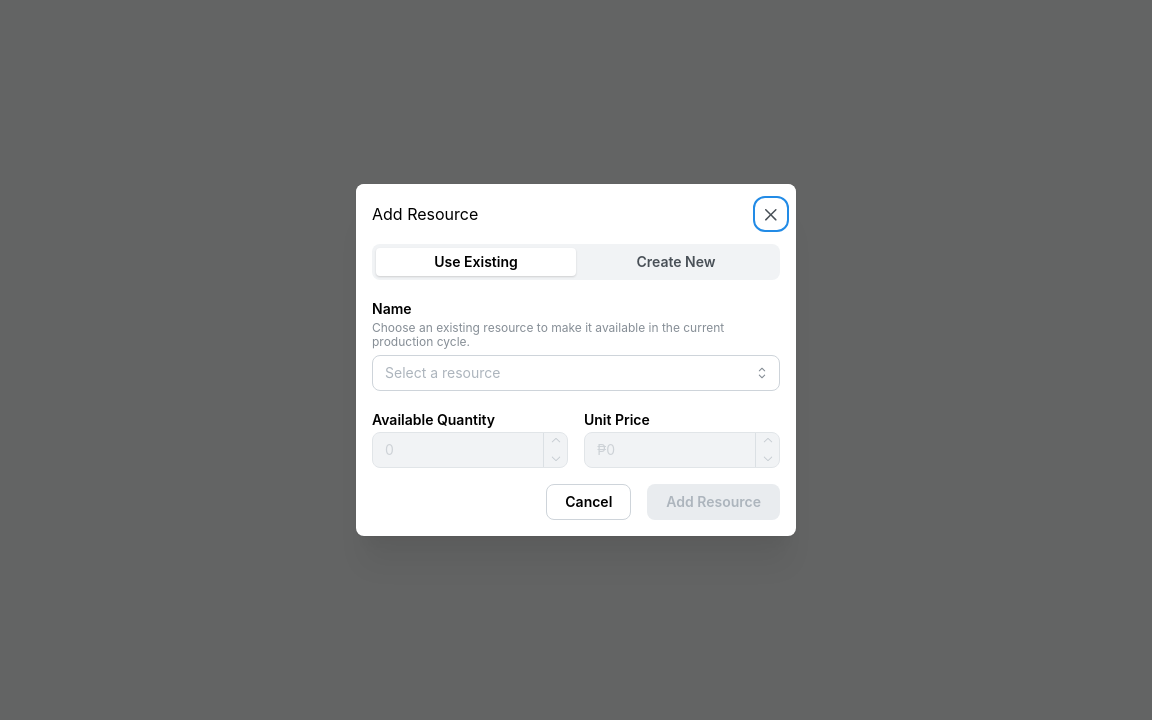
Scenario: AddResourceModal › lists existing resources with their Active and Inactive badges
Click the dropdown labelled "Name".
click(576, 373)  # box 372,355 -> 780,391
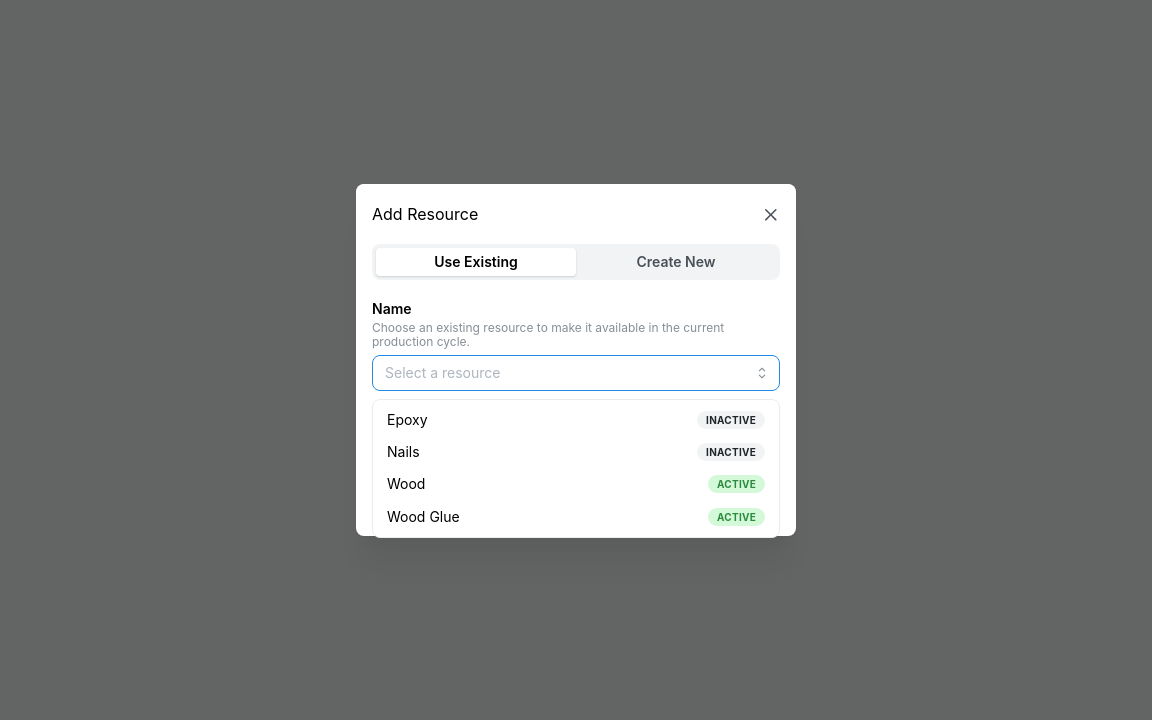
expect the text "Wood" is shown: met, box 387,474 -> 426,495
expect the text "Wood Glue" is shown: met, box 387,507 -> 460,527
expect the text "Epoxy" is shown: met, box 387,410 -> 428,430
